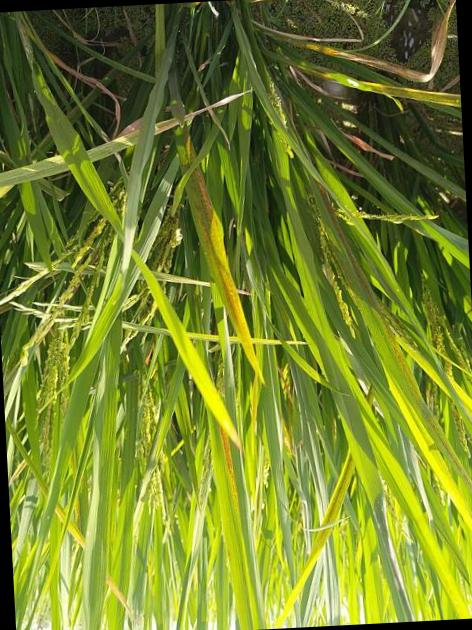Leaf Streak: (317, 183, 472, 527), (193, 164, 240, 337), (321, 455, 355, 525), (222, 429, 241, 520), (174, 120, 197, 170), (311, 525, 334, 558)
